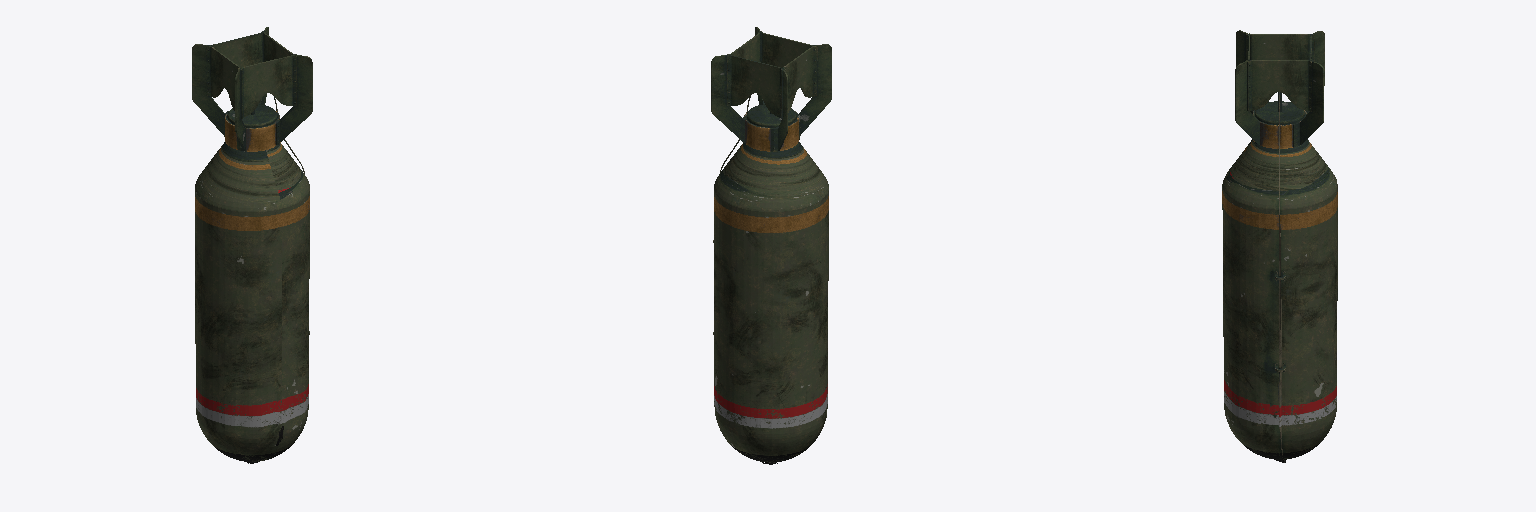
The picture shows the model from 3 angles: view 1: azimuth 30°, elevation 25°; view 2: azimuth 150°, elevation 25°; view 3: azimuth 270°, elevation 25°; orthographic projection.
Parts seen in each view (by area): view 1: Artillery.002; view 2: Artillery.002; view 3: Artillery.002.
Part boxes in pixels (left/top/right/bottom): Artillery.002: left=192, top=27, right=312, bottom=463; Artillery.002: left=711, top=27, right=831, bottom=464; Artillery.002: left=1222, top=30, right=1337, bottom=462.
Bounding box in the file's own units: 1.41 × 5.2 × 1.31.
Materials: 1 (1 with a texture image).